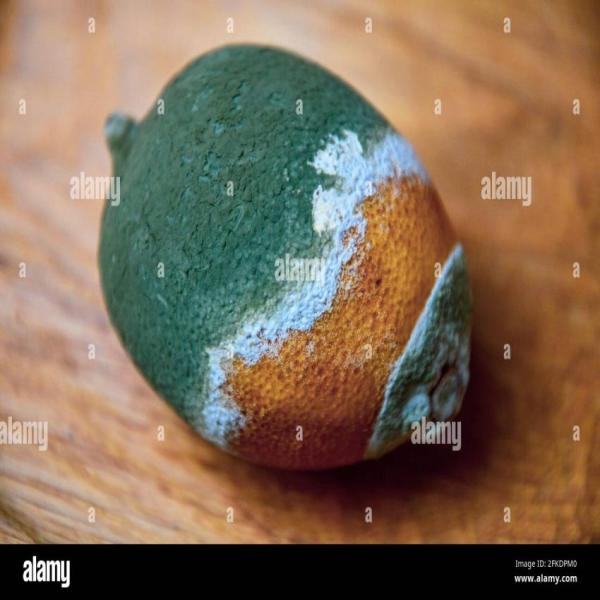Trips: (70, 37, 494, 484)
